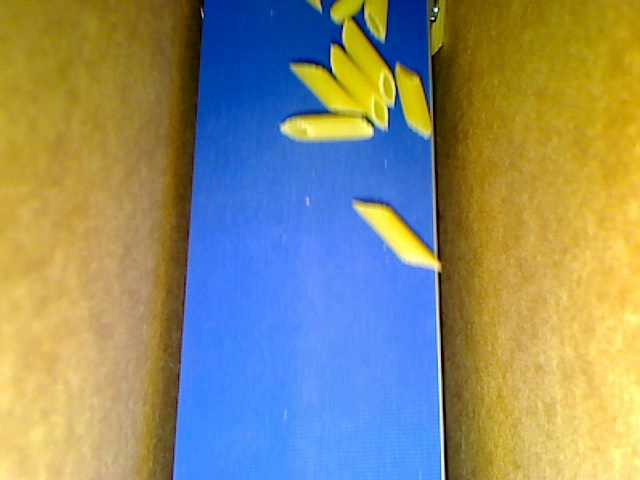elbow: (329, 1, 365, 26)
penne: (352, 197, 443, 269), (327, 43, 390, 136), (343, 12, 394, 105), (287, 61, 356, 115), (396, 60, 432, 139), (284, 115, 377, 145), (429, 1, 451, 62), (365, 1, 394, 39), (301, 1, 323, 16)
